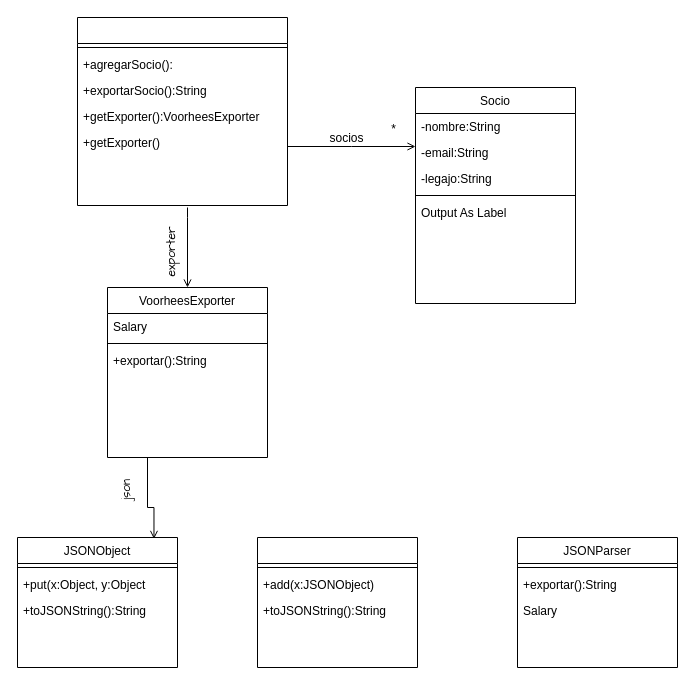
This 695x685 diagram has some shape labels left out. The shapes that lost their labels are listed below. From the top down, each one's box as (x1, y1, x2, y2) in pixels, then its label:
(76, 16, 288, 206): Biblioteca
(256, 536, 418, 668): JSONArray
